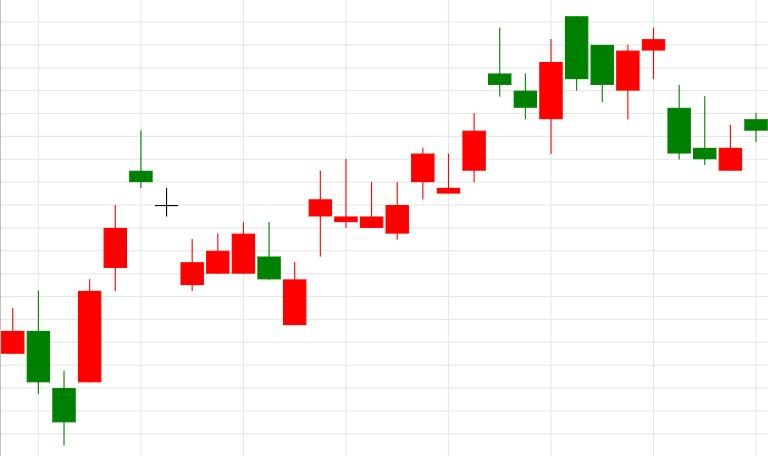evening_star_fall: (386, 27, 537, 239)
